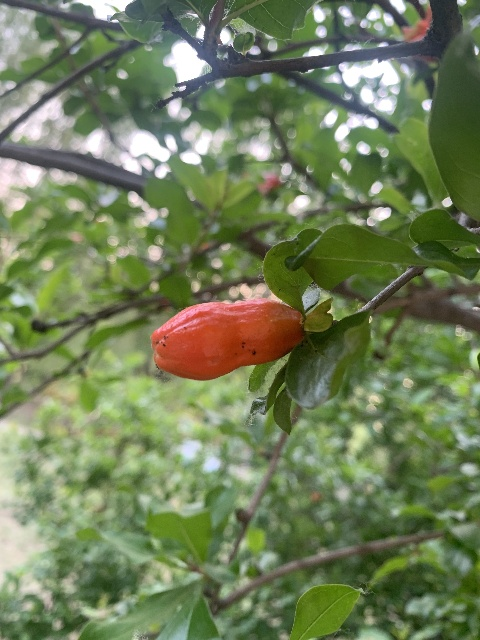bud: (149, 294, 303, 380)
